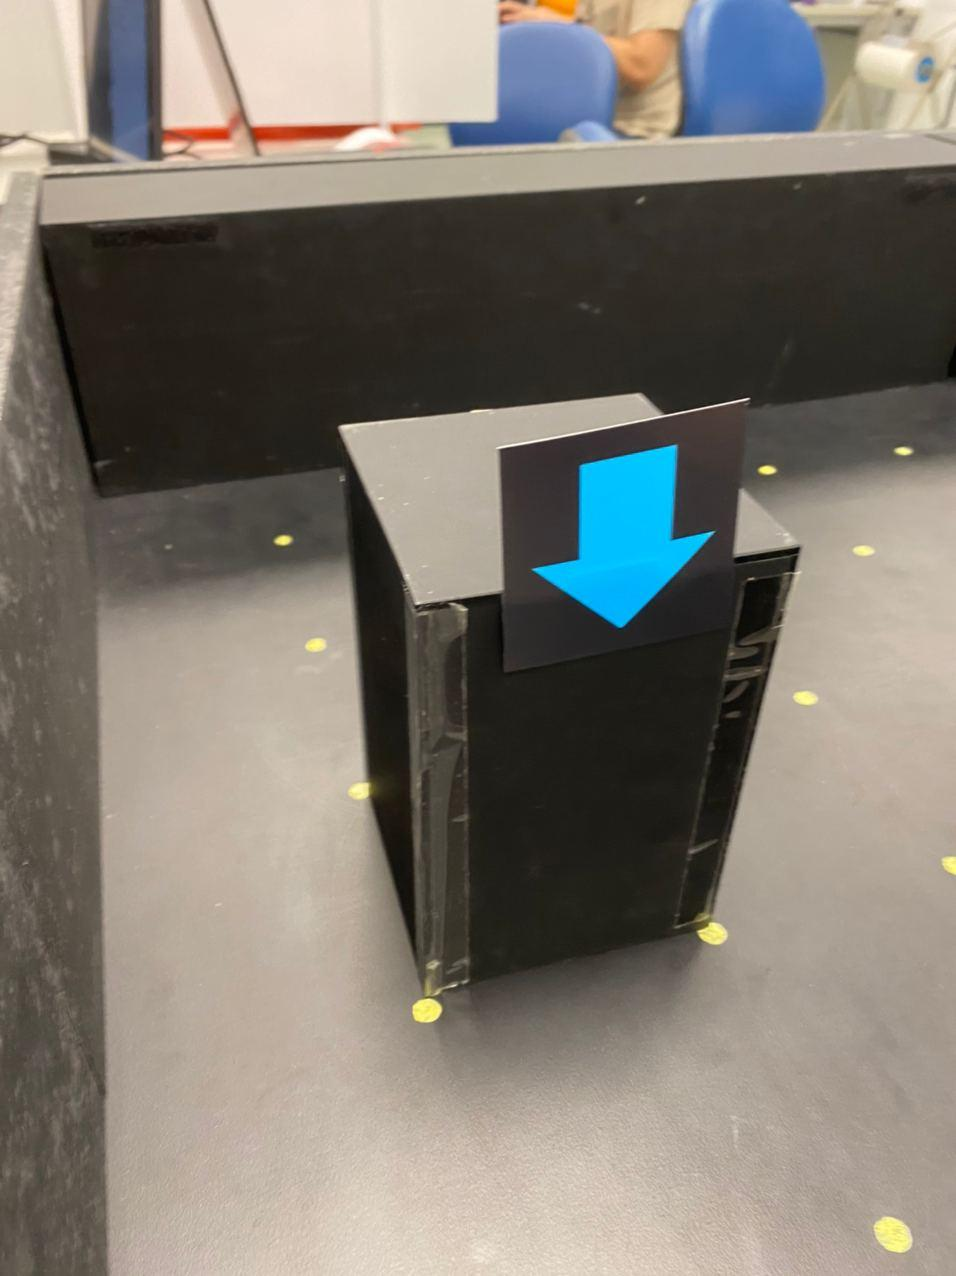down: (531, 441, 714, 627)
